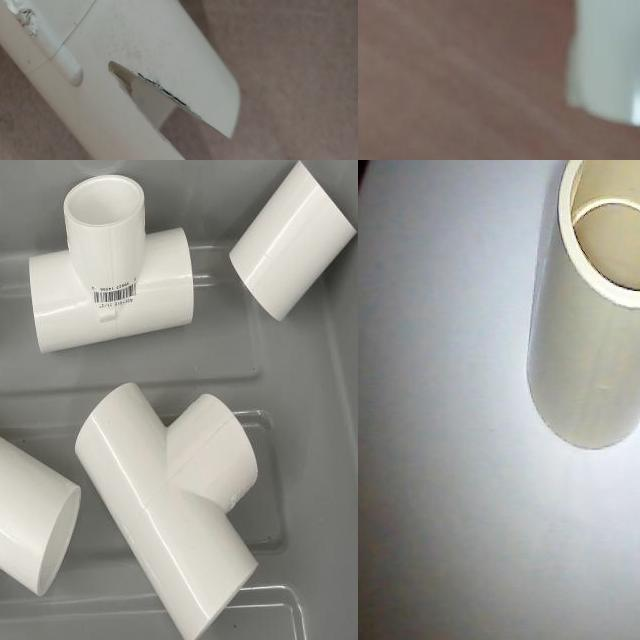T Joint: (74, 383, 263, 640), (525, 160, 640, 454), (30, 175, 194, 346), (0, 436, 81, 597)
